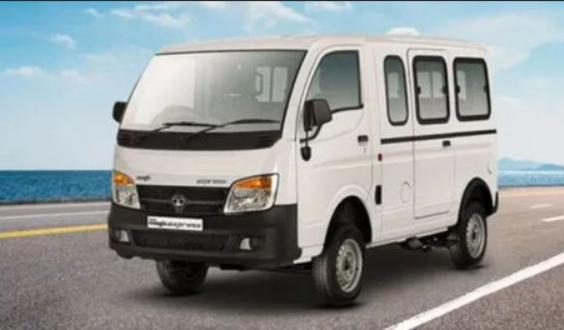van: (37, 26, 528, 307)
